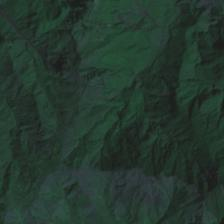landslides: (211, 31, 224, 45), (51, 202, 65, 212)
